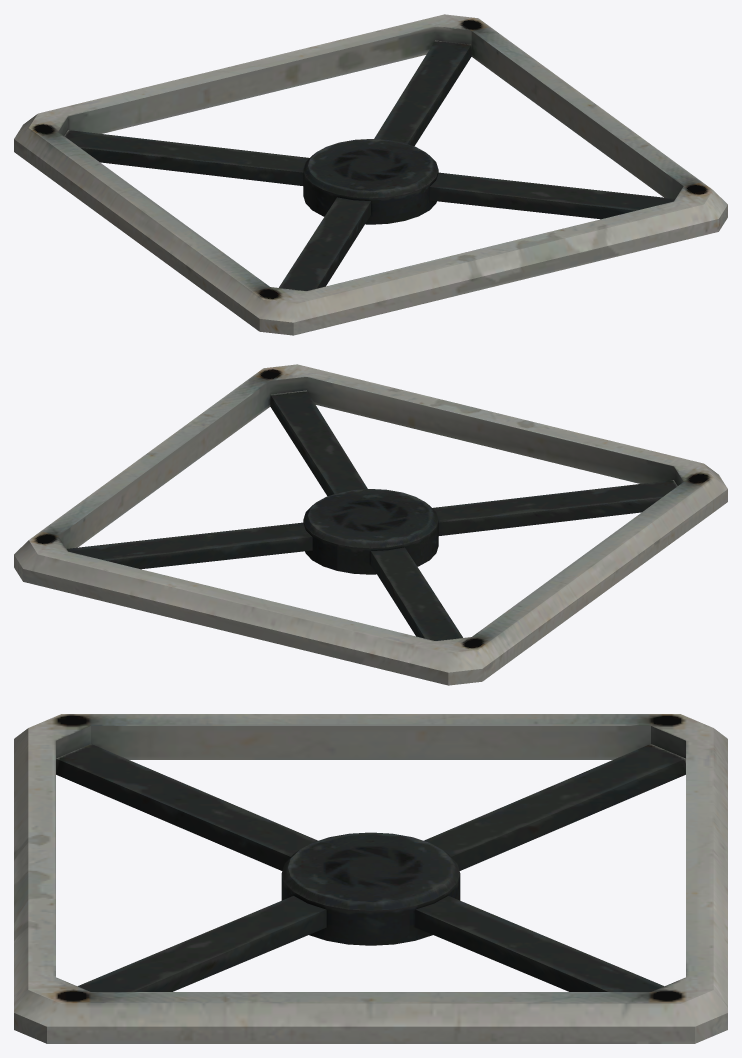
File: piston_platforms.glb
The picture shows the model from 3 angles, top to bottom: view 1: azimuth 30°, elevation 25°; view 2: azimuth 150°, elevation 25°; view 3: azimuth 270°, elevation 25°; orthographic projection. The views are drawn at different scales.
Visible parts, largest first — view 1: lift_platform; view 2: lift_platform; view 3: lift_platform.
Part boxes in pixels (box(x1,y1,x2,y2)): lift_platform: box(14, 14, 727, 335); lift_platform: box(14, 364, 727, 685); lift_platform: box(14, 714, 727, 1043).
Bounding box in the file's own units: 2 × 0.1517 × 2.
Materials: 1 (1 with a texture image).
